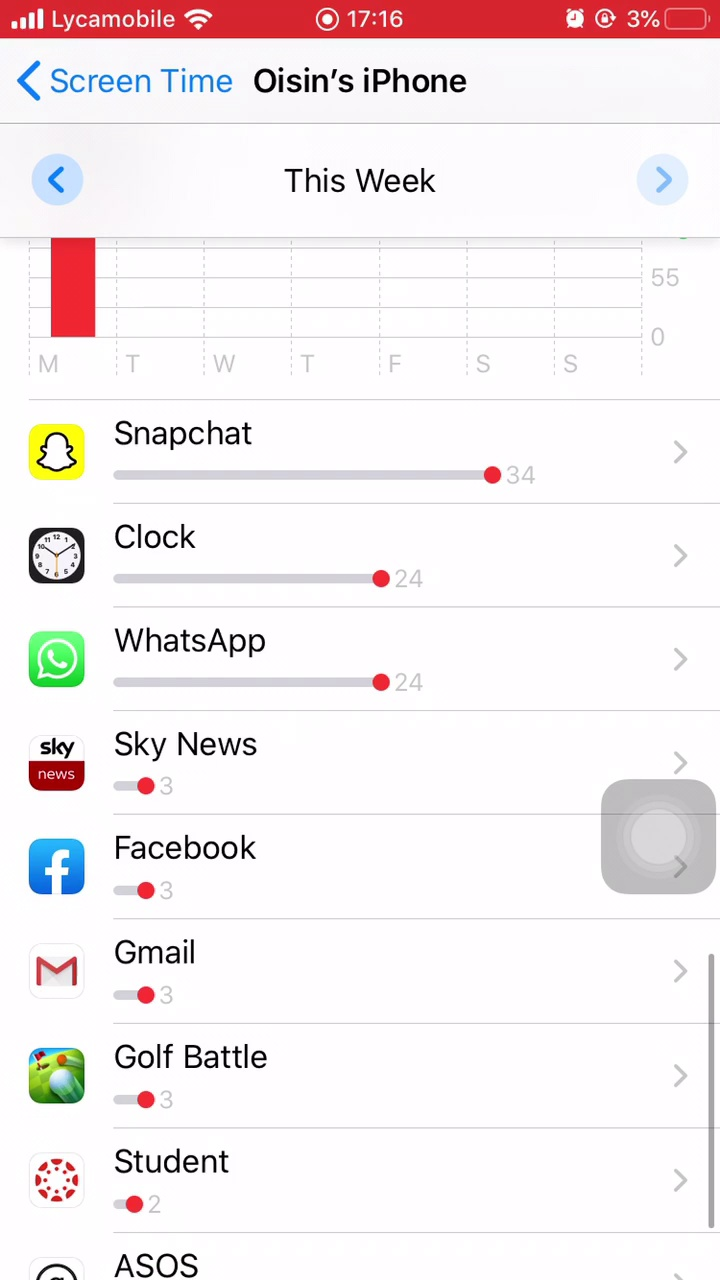not_app: (17, 407, 595, 505), (17, 505, 484, 608), (18, 610, 500, 707), (18, 1136, 381, 1235), (15, 1032, 370, 1132), (25, 928, 356, 1027), (26, 710, 331, 817), (26, 822, 345, 922)
week: (271, 150, 446, 207)
